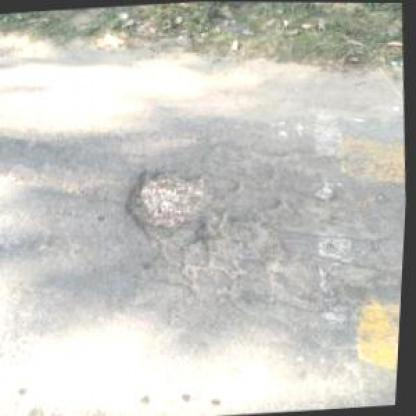pothole: (121, 162, 223, 235), (196, 212, 291, 270)
